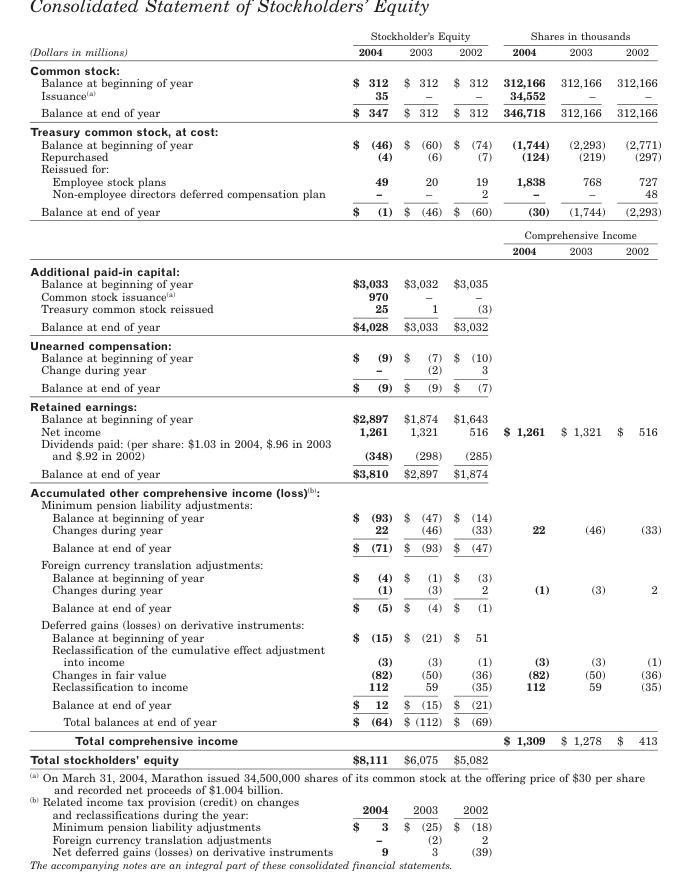table: (28, 29, 660, 857)
table column: (28, 29, 342, 857), (496, 29, 554, 857), (554, 29, 610, 857), (342, 29, 397, 857), (446, 29, 496, 857), (610, 29, 660, 857), (397, 29, 446, 857)
table column header: (28, 29, 660, 60)
table projected row header: (28, 767, 660, 795), (28, 260, 660, 277), (28, 121, 660, 137), (28, 482, 660, 498), (28, 60, 660, 75), (28, 335, 660, 350), (28, 396, 660, 411), (28, 555, 660, 570), (28, 615, 660, 630), (28, 162, 660, 174), (28, 498, 660, 510)
table row: (28, 436, 660, 464), (28, 767, 660, 795), (28, 642, 660, 667), (28, 795, 660, 819), (28, 201, 660, 222), (28, 222, 660, 241), (28, 241, 660, 260), (28, 316, 660, 335), (28, 730, 660, 749), (28, 103, 660, 121), (28, 378, 660, 396), (28, 464, 660, 482), (28, 537, 660, 555), (28, 597, 660, 615), (28, 694, 660, 712), (28, 712, 660, 730), (28, 749, 660, 767), (28, 43, 660, 60), (28, 260, 660, 277), (28, 121, 660, 137), (28, 482, 660, 498), (28, 60, 660, 75), (28, 88, 660, 103), (28, 186, 660, 201), (28, 301, 660, 316), (28, 335, 660, 350), (28, 363, 660, 378), (28, 396, 660, 411), (28, 522, 660, 537), (28, 555, 660, 570), (28, 582, 660, 597), (28, 615, 660, 630), (28, 679, 660, 694), (28, 29, 660, 43), (28, 75, 660, 88), (28, 149, 660, 162), (28, 350, 660, 363), (28, 411, 660, 424), (28, 819, 660, 832), (28, 844, 660, 857), (28, 137, 660, 149), (28, 162, 660, 174), (28, 174, 660, 186), (28, 277, 660, 289), (28, 289, 660, 301), (28, 424, 660, 436), (28, 498, 660, 510), (28, 510, 660, 522), (28, 570, 660, 582), (28, 630, 660, 642), (28, 667, 660, 679), (28, 832, 660, 844)
table spanning cell: (28, 29, 342, 60), (496, 222, 660, 241), (496, 29, 660, 43), (342, 29, 496, 43)
